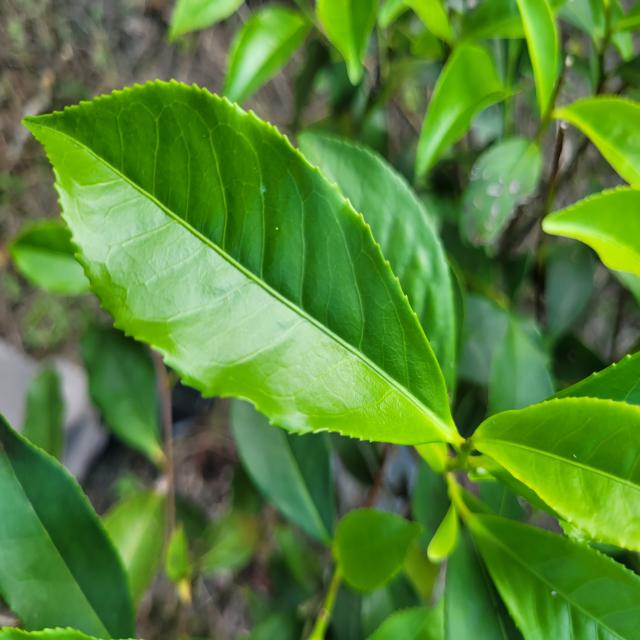Category B(2-4 days): (8, 53, 474, 503)
